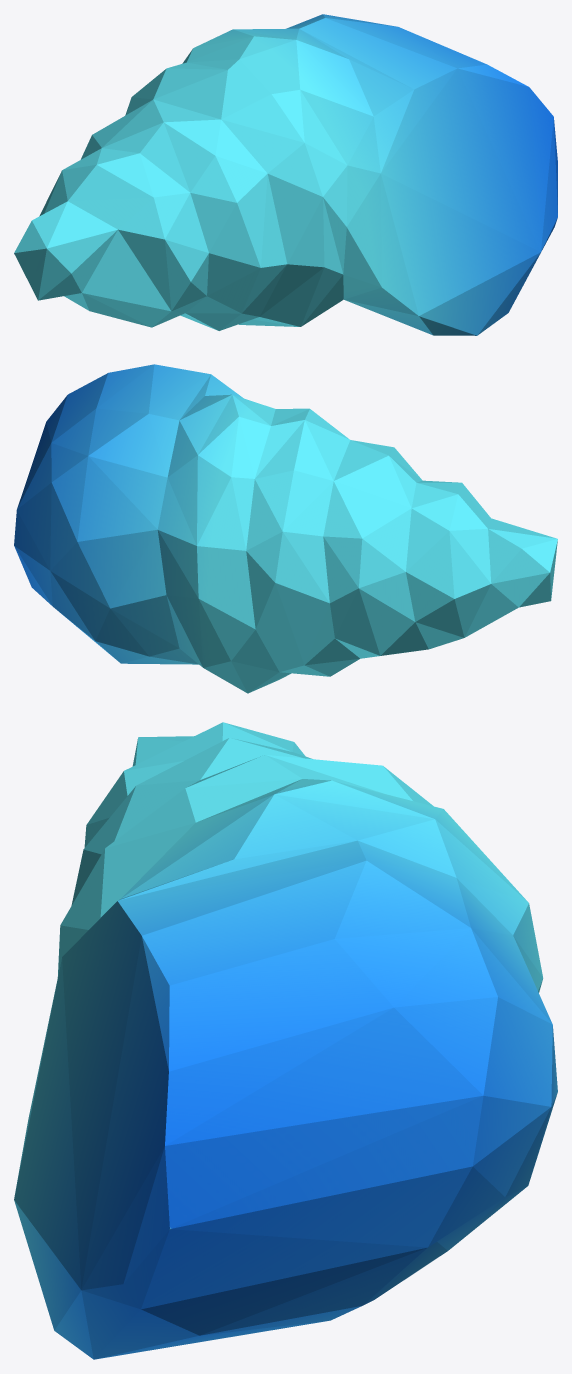
File: SM_Shell_6.fbx
3 views of the same model, one above another, from view 1: azimuth 30°, elevation 25°; view 2: azimuth 150°, elevation 25°; view 3: azimuth 270°, elevation 25° (orthographic). The views are drawn at different scales.
Visible parts, largest first — view 1: Shell_6; view 2: Shell_6; view 3: Shell_6.
Part boxes in pixels (x1,y1,x2,y2): Shell_6: (14,14,557,335); Shell_6: (14,364,557,693); Shell_6: (14,722,557,1359).
Bounding box in the file's own units: 39.2 × 19.34 × 21.27.
